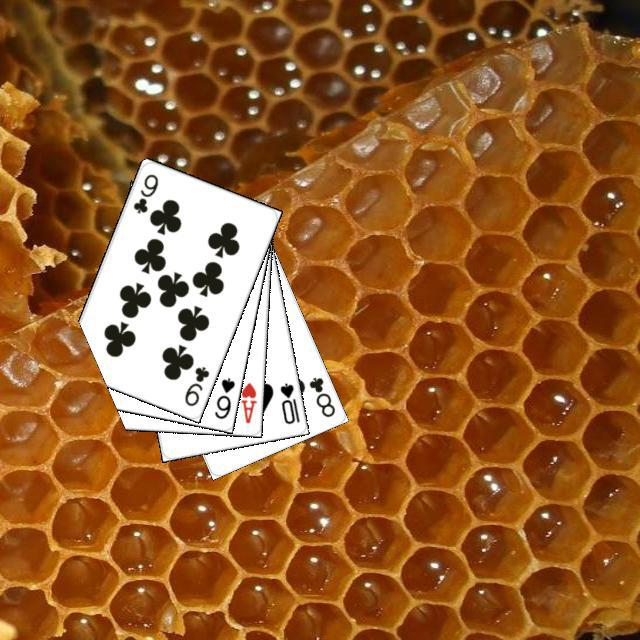10s: (275, 378, 301, 426)
6s: (210, 373, 236, 421)
8c: (304, 372, 337, 419)
9c: (179, 361, 211, 408), (128, 169, 160, 215)
Ah: (236, 377, 258, 425)
